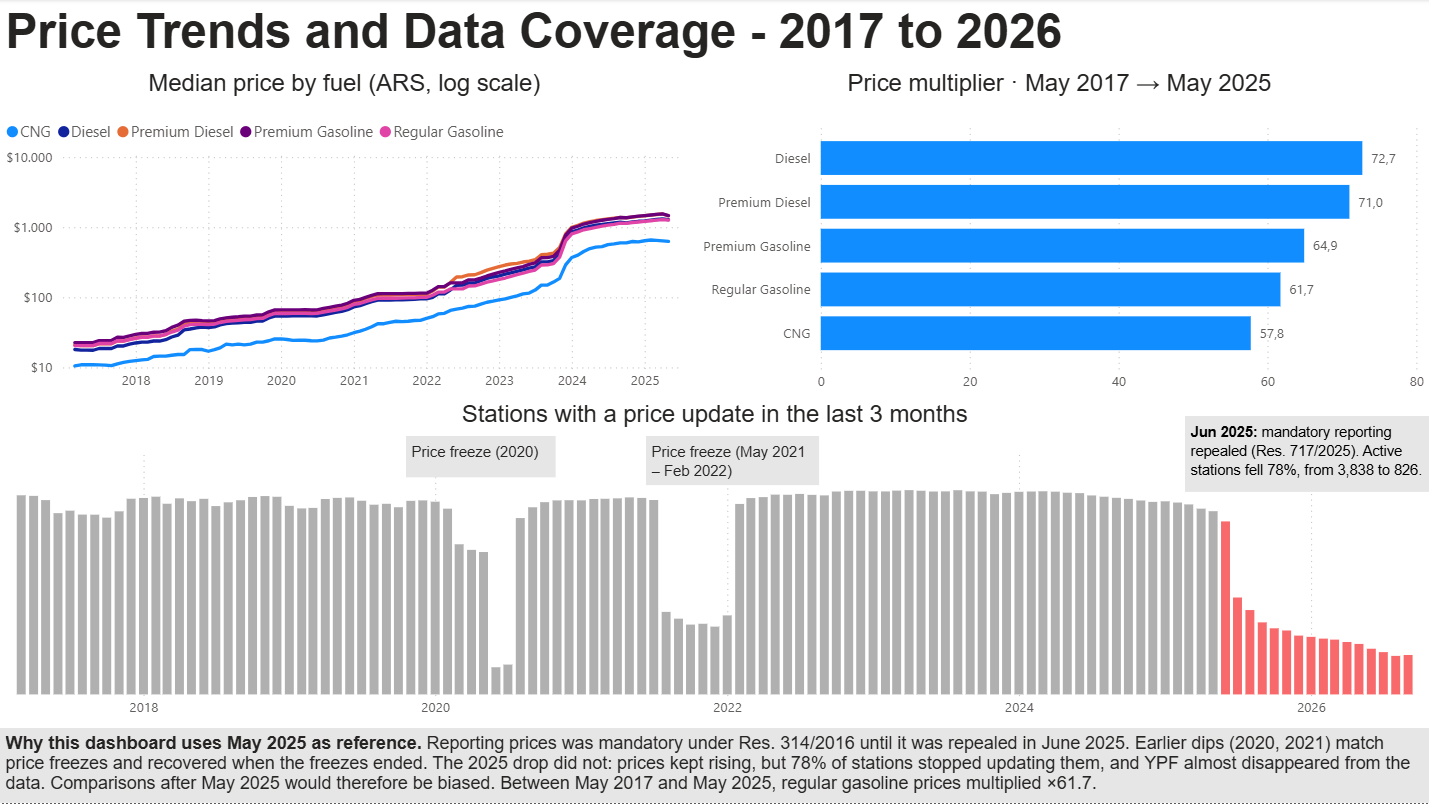

Layout of this report page (visuals, bound fields, positions):
{"tool":"powerbi","page":{"name":"Trends","canvas":[1280,720],"ordinal":3},"visuals":[{"type":"lineChart","title":"Median price by fuel (ARS, log scale)","fields":{"Category":["monthly_prices.month"],"Series":["monthly_prices.product"],"Y":["monthly_prices.Median Price"]},"box":[0,63.2,616.7,296.7],"z":0},{"type":"clusteredBarChart","title":"Price multiplier · May 2017 → May 2025","fields":{"Category":["monthly_prices.product"],"Y":["current_prices.Price Multiplier"]},"box":[616.7,63.2,663.3,296.7],"z":1000},{"type":"clusteredColumnChart","title":"Stations with a price update in the last 3 months","fields":{"Category":["monthly_prices.month"],"Y":["monthly_prices.Reporting Stations"]},"box":[0,359.9,1280,292.8],"z":2000},{"type":"textbox","box":[0,652.6,1280,67.1],"z":3000},{"type":"textbox","box":[1061.2,373.5,218.8,68.1],"z":4000},{"type":"textbox","box":[0,0,1280,63.2],"z":5000},{"type":"textbox","box":[363.8,391,134.2,37],"z":5001},{"type":"textbox","box":[578.7,391,154.7,43.8],"z":5002}]}

Visuals, with their boxes in screenshot pixels (x1, y1, x2, y2), scaled from the page's 1280x720 canvas onto the 1429x804 screenshot:
"Median price by fuel (ARS, log scale)" lineChart: [x1=0, y1=71, x2=688, y2=402]
"Price multiplier · May 2017 → May 2025" clusteredBarChart: [x1=688, y1=71, x2=1428, y2=402]
"Stations with a price update in the last 3 months" clusteredColumnChart: [x1=0, y1=402, x2=1428, y2=729]
textbox: [x1=0, y1=729, x2=1428, y2=803]
textbox: [x1=1185, y1=417, x2=1428, y2=493]
textbox: [x1=0, y1=0, x2=1428, y2=71]
textbox: [x1=406, y1=437, x2=556, y2=478]
textbox: [x1=646, y1=437, x2=819, y2=486]
